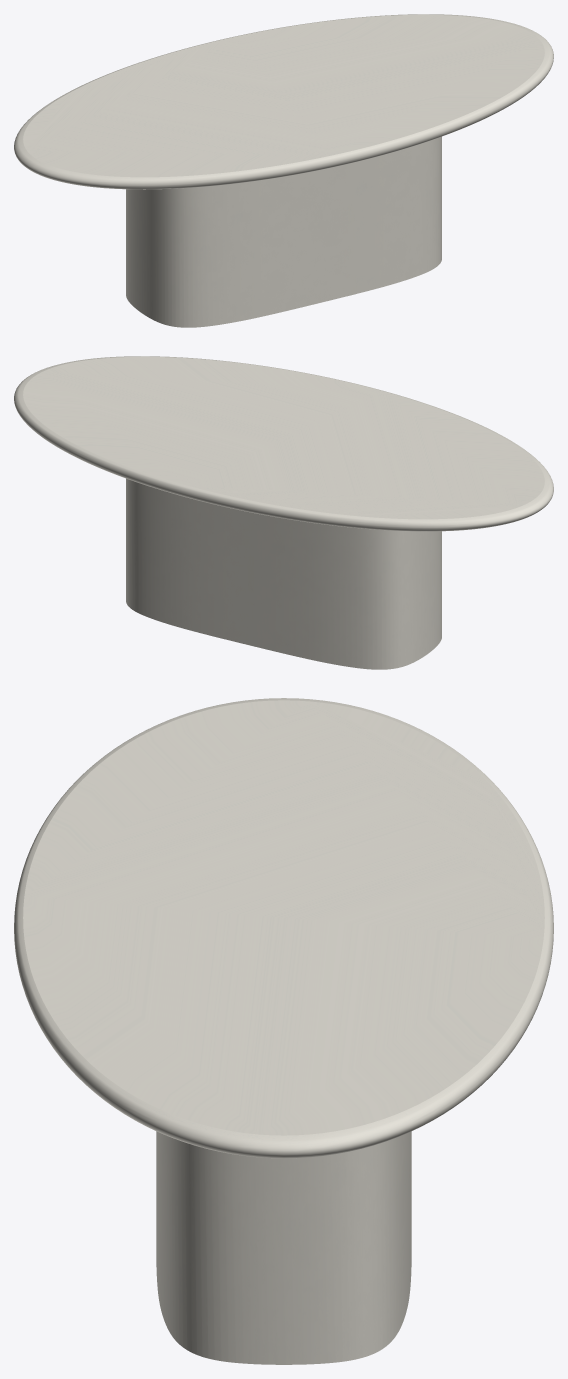
Rendered from pale_ellips_round_fixed.glb.
The picture shows the model from 3 angles, top to bottom: view 1: azimuth 30°, elevation 25°; view 2: azimuth 150°, elevation 25°; view 3: azimuth 270°, elevation 25°; orthographic projection. The views are drawn at different scales.
Visible parts, largest first — view 1: round_ellips, fixed; view 2: round_ellips, fixed; view 3: round_ellips, fixed.
Part boxes in pixels (box(x1,y1,x2,y2)): round_ellips: box(14, 14, 553, 189); fixed: box(126, 136, 441, 327); round_ellips: box(14, 356, 553, 531); fixed: box(126, 478, 441, 669); round_ellips: box(14, 698, 553, 1158); fixed: box(156, 1131, 411, 1364).
Bounding box in the file's own units: 7.5 × 2.5 × 3.8.
1 material, 1 textured.
